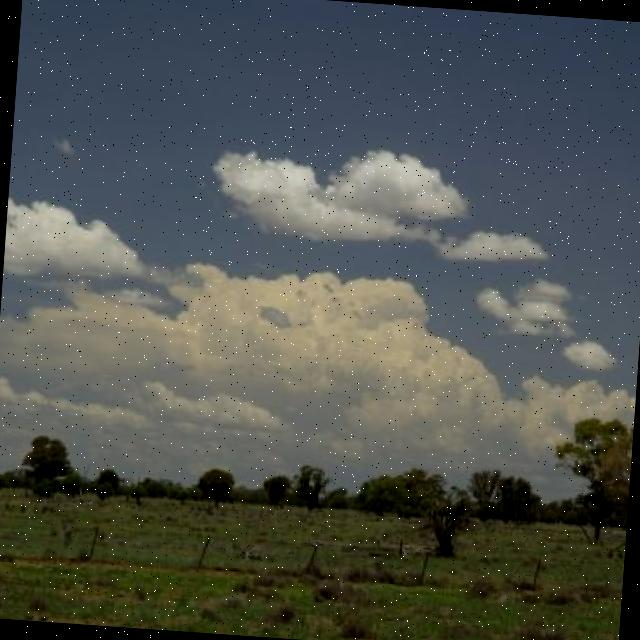Cu: (1, 188, 624, 466)
